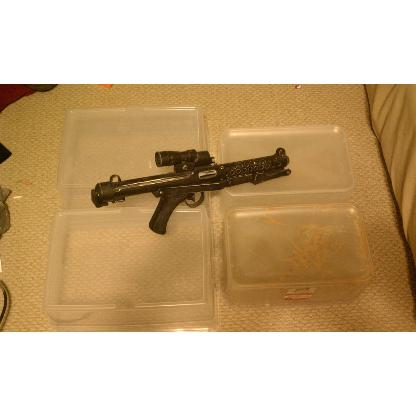gun: (90, 150, 292, 235)
